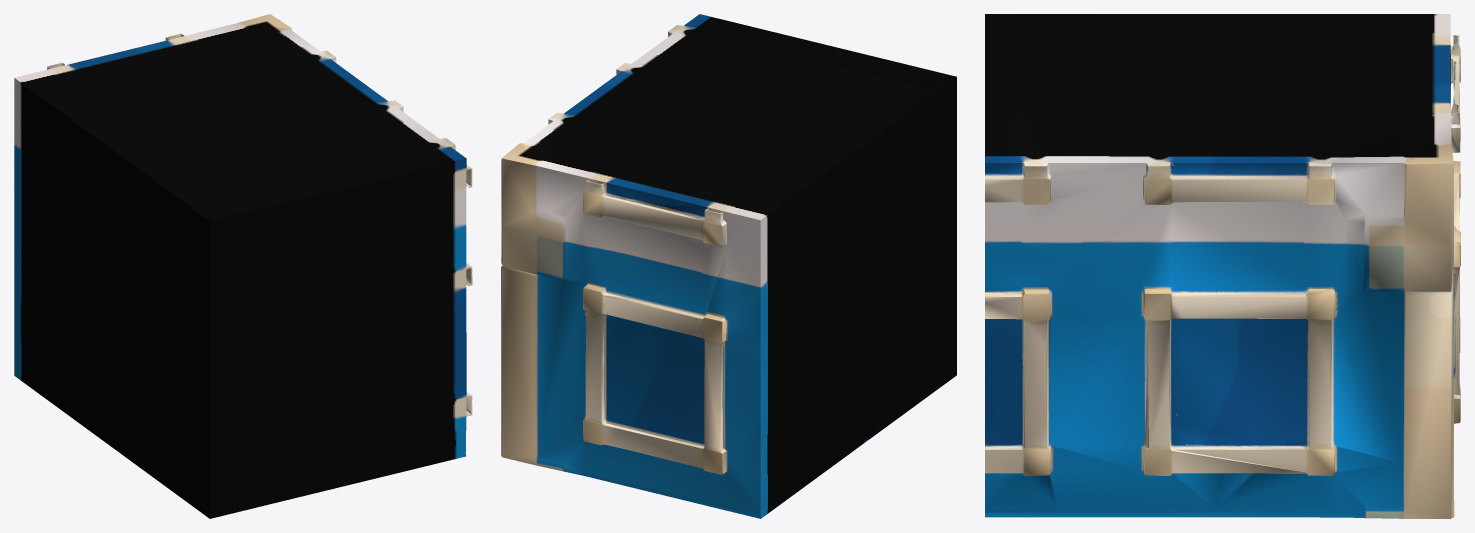
Rendered from 8-upper-walls-back-right.fbx.
3 renders of one model, left to right at view 1: azimuth 30°, elevation 25°; view 2: azimuth 150°, elevation 25°; view 3: azimuth 270°, elevation 25°, orthographic. The views are drawn at different scales.
Visible parts, largest first — view 1: upper-walls-back-right; view 2: upper-walls-back-right; view 3: upper-walls-back-right.
Boxes of the visible parts, bbox=[...] form: upper-walls-back-right: bbox=[14, 14, 472, 518]; upper-walls-back-right: bbox=[501, 14, 956, 518]; upper-walls-back-right: bbox=[985, 14, 1460, 518].
Bounding box in the file's own units: 4468 × 4835 × 5881.
1 material, 1 textured.
